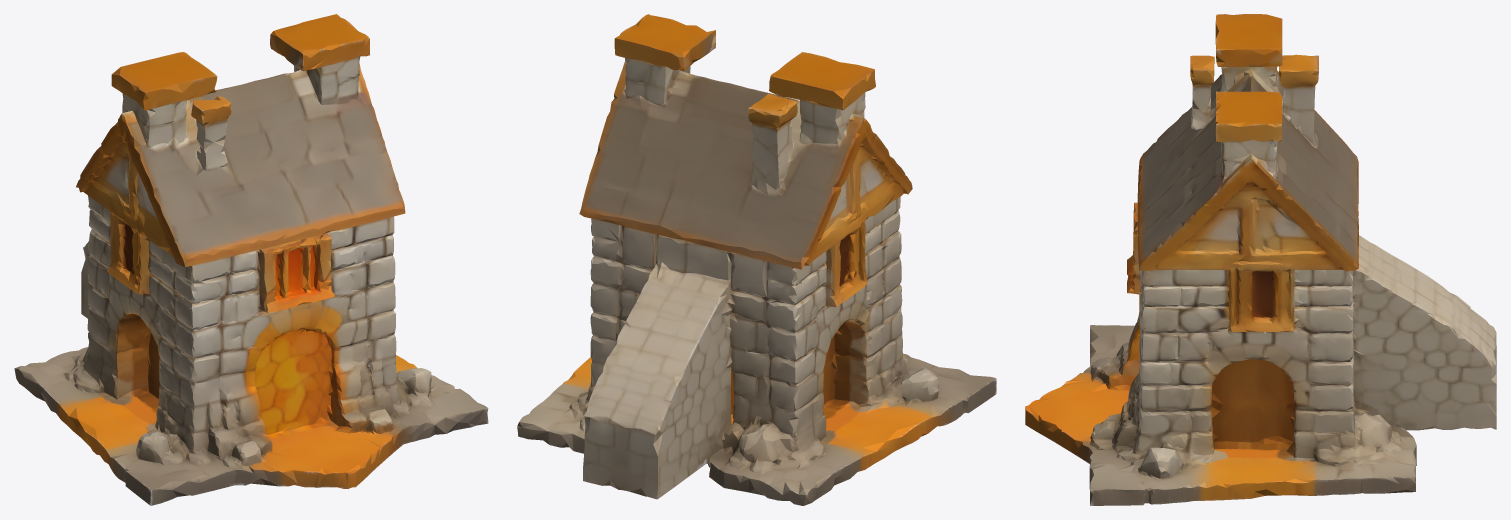
Rendered from forge.glb.
The picture shows the model from 3 angles, left to right: view 1: azimuth 30°, elevation 25°; view 2: azimuth 150°, elevation 25°; view 3: azimuth 270°, elevation 25°; orthographic projection.
Parts seen in each view (by area): view 1: Forge; view 2: Forge; view 3: Forge.
Part boxes in pixels (left/top/right/bottom): Forge: left=14, top=14, right=488, bottom=505; Forge: left=517, top=14, right=996, bottom=505; Forge: left=1025, top=14, right=1496, bottom=505.
Size of the model in its own units: 1.57 by 1.57 by 1.89.
Materials: 1 (1 with a texture image).
